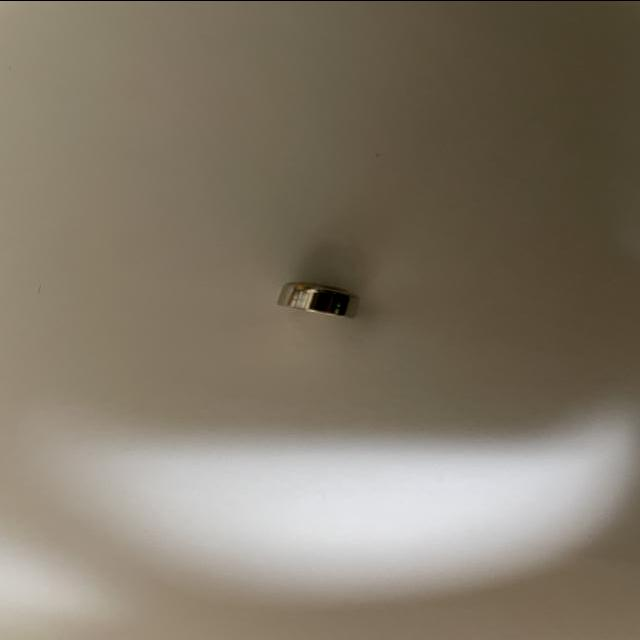COIN: (274, 278, 366, 320)
